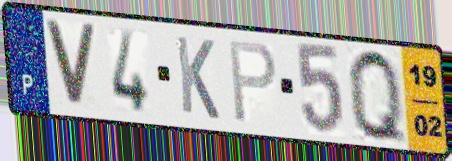4: (108, 26, 154, 116)
5: (292, 42, 346, 139)
K: (173, 32, 222, 123)
P: (227, 38, 279, 126)
Q: (345, 44, 410, 149)
V: (41, 16, 99, 111)
